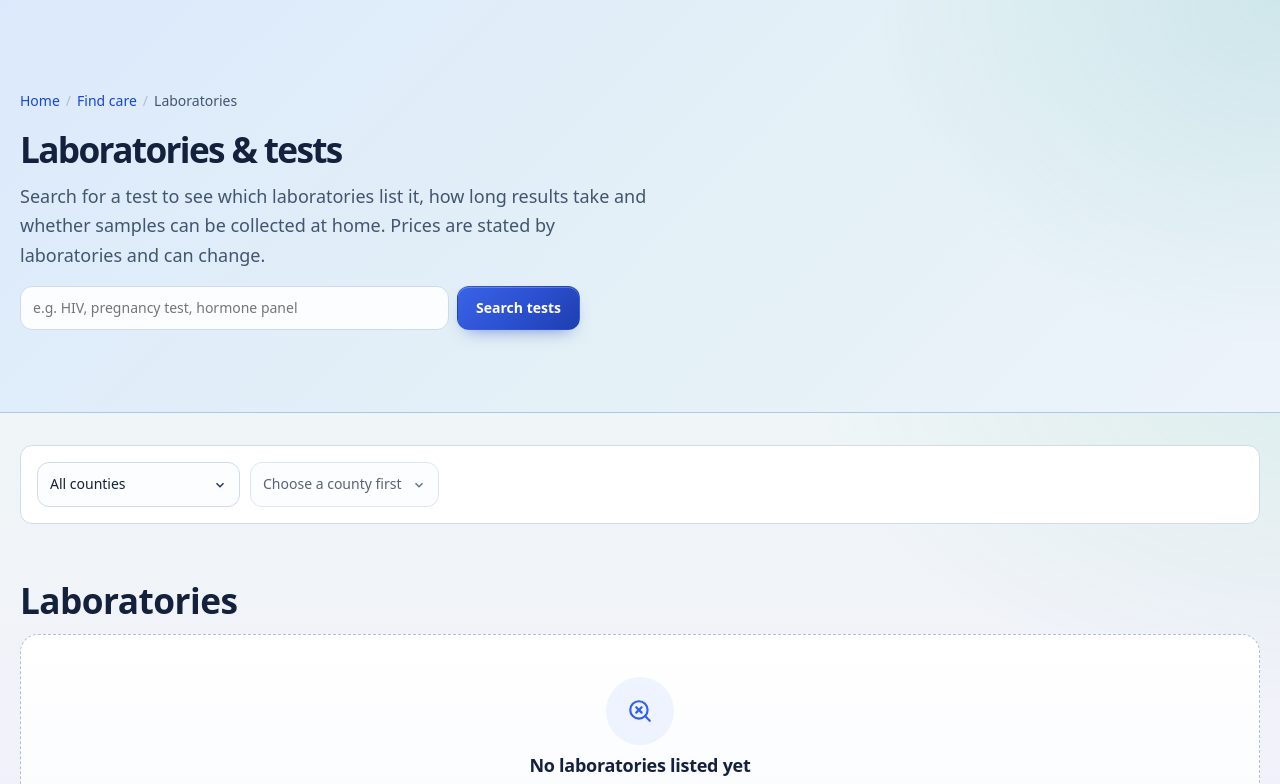
Scenario: filters laboratories county first, then by a town of that county, and resets the town with the county
The width and height of the screenshot is (1280, 784).
Expected: the dropdown named "Town" is disabled, [250,462,439,507]
Select "Kisumu (3 laboratories)" in the dropdown named "County": point(138, 485) [37,462,240,507]
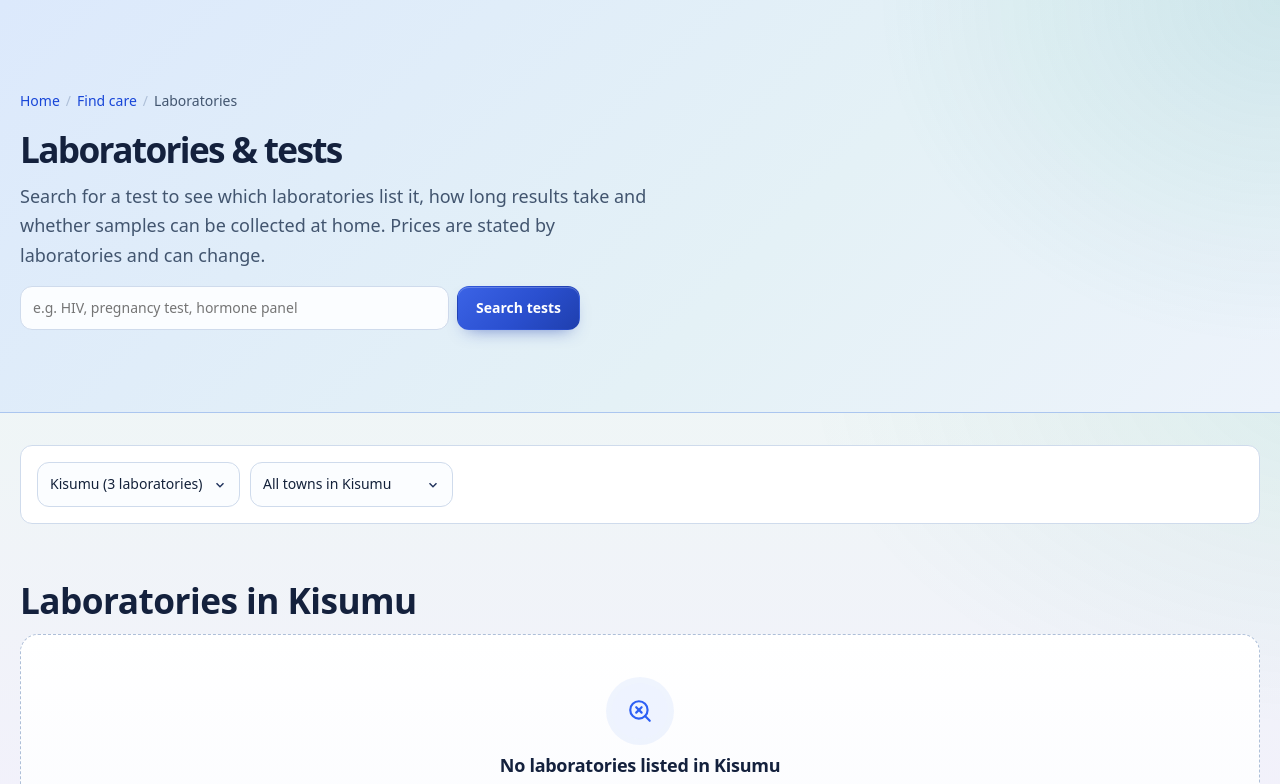
Select "Maseno (1 laboratory)" in the dropdown named "Town": point(352, 485) [250,462,453,507]
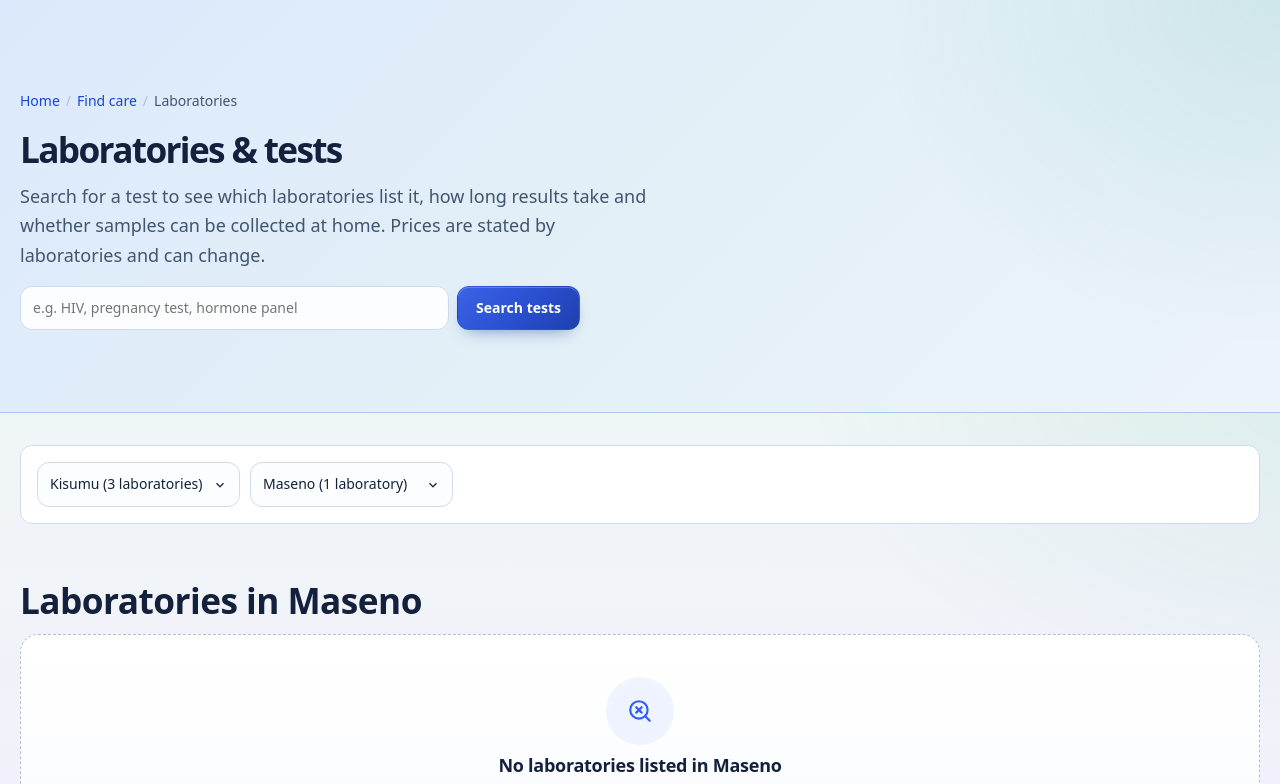
Select "Nakuru (1 laboratory)" in the dropdown named "County": point(138, 485) [37,462,240,507]
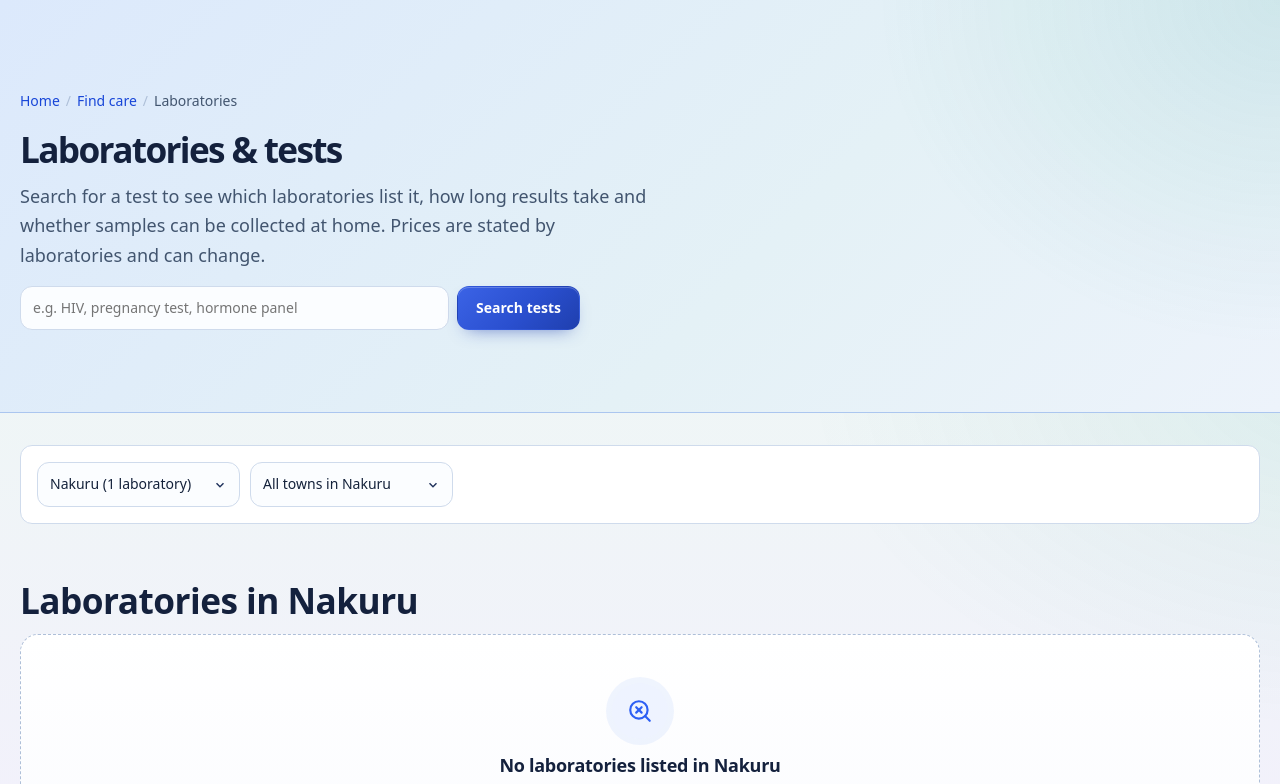
Now the heading "No laboratories listed in Nakuru" is shown, box [499,754,781,776]
